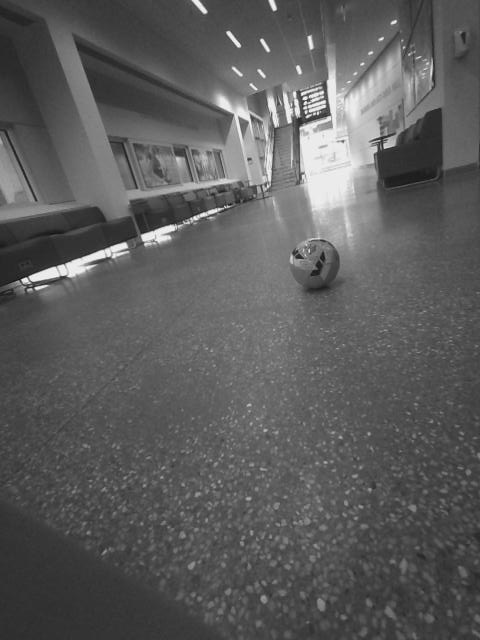ball: (284, 234, 343, 294)
